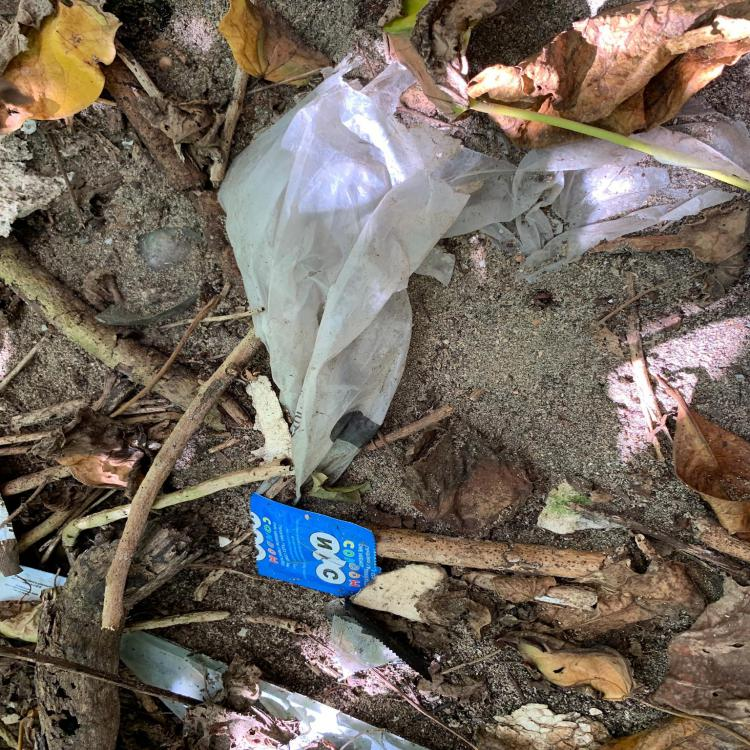Broken glass: (94, 226, 204, 327)
Other plastic: (250, 493, 380, 596), (324, 598, 430, 680), (2, 567, 68, 601), (2, 495, 21, 576)
Plastic film: (216, 52, 750, 508)
Styrofoam piece: (479, 704, 609, 748), (246, 376, 295, 464)
Unlabeled litter: (120, 631, 431, 749)
